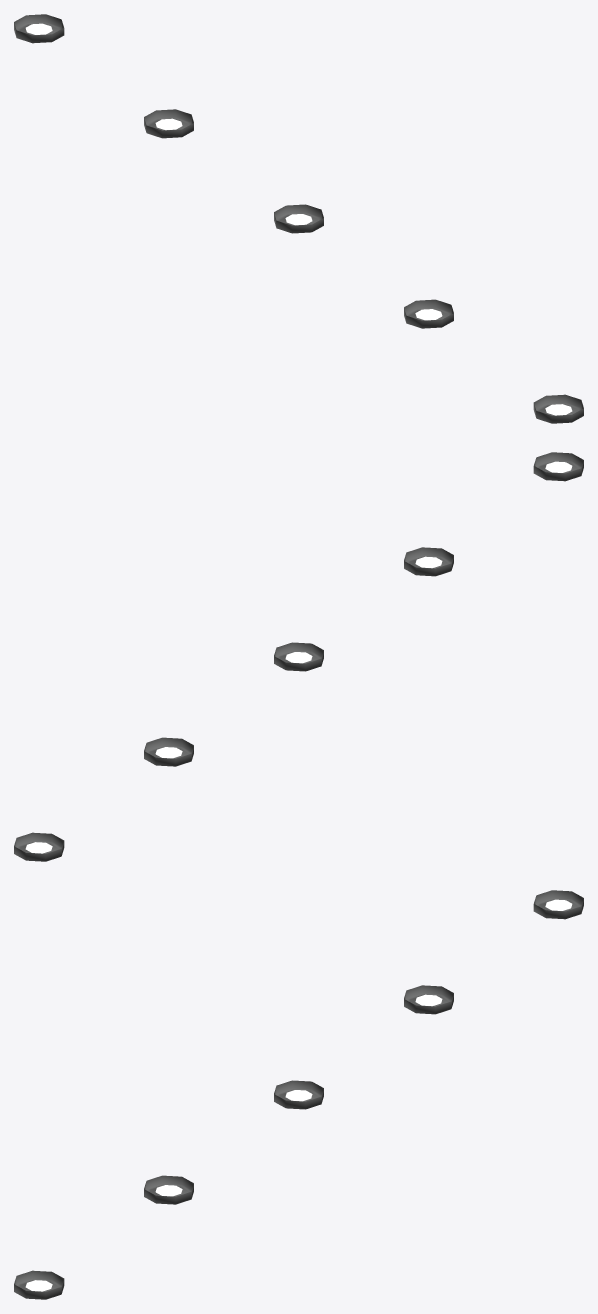
Rendered from Cylinder_Light.fbx.
3 views of the same model, one above another, from view 1: azimuth 30°, elevation 25°; view 2: azimuth 150°, elevation 25°; view 3: azimuth 330°, elevation 25° (orthographic).
Parts seen in each view (by area): view 1: Cylinder_Light, Cylinder_Light.001, Cylinder_Light.002, Cylinder_Light.003, Cylinder_Light.004; view 2: Cylinder_Light, Cylinder_Light.001, Cylinder_Light.002, Cylinder_Light.003, Cylinder_Light.004; view 3: Cylinder_Light, Cylinder_Light.001, Cylinder_Light.002, Cylinder_Light.003, Cylinder_Light.004.
Part boxes in pixels (bbox=[...]): Cylinder_Light: bbox=[14, 14, 64, 43]; Cylinder_Light.001: bbox=[533, 394, 583, 423]; Cylinder_Light.002: bbox=[404, 299, 453, 328]; Cylinder_Light.003: bbox=[144, 109, 193, 138]; Cylinder_Light.004: bbox=[274, 204, 323, 233]; Cylinder_Light: bbox=[14, 832, 64, 861]; Cylinder_Light.001: bbox=[533, 452, 583, 481]; Cylinder_Light.002: bbox=[404, 547, 453, 576]; Cylinder_Light.003: bbox=[144, 737, 193, 766]; Cylinder_Light.004: bbox=[274, 642, 323, 671]; Cylinder_Light: bbox=[533, 890, 583, 919]; Cylinder_Light.001: bbox=[14, 1270, 64, 1299]; Cylinder_Light.002: bbox=[144, 1175, 193, 1204]; Cylinder_Light.003: bbox=[404, 985, 453, 1014]; Cylinder_Light.004: bbox=[274, 1080, 323, 1109].
Size of the model in its own units: 40 by 6.64 by 840.
1 material, 1 textured.
